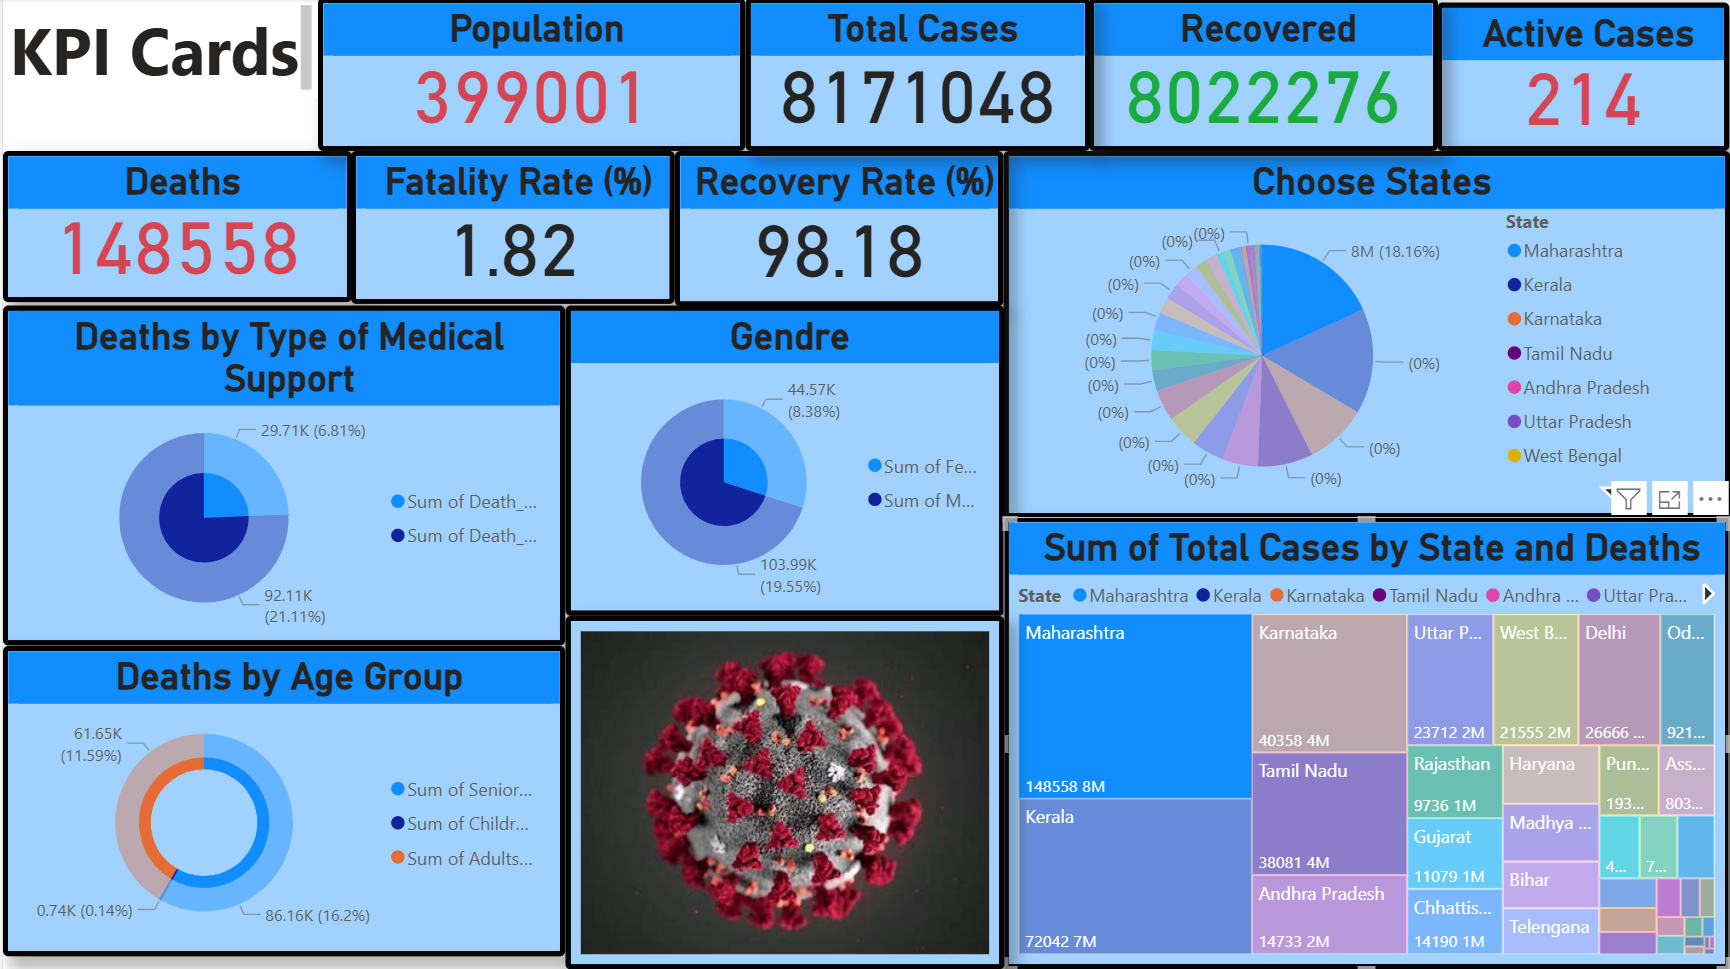

The dashboard page shown, as its layout file describes it:
{"tool":"powerbi","page":{"name":"Page 1","canvas":[1280,720],"ordinal":0},"visuals":[{"type":"actionButton","box":[0,0,100,40],"z":0},{"type":"kpi","title":"Deaths ","fields":{"Indicator":["Sum(Table.Deaths)"],"TrendLine":["Table.Total Cases"],"Goal":["Sum(Table.Population)"]},"box":[0,113.3,258.3,111.7],"z":1000},{"type":"kpi","title":"Active Cases","fields":{"Indicator":["Sum(Table.Active)"],"TrendLine":["Table.Total Cases"],"Goal":["Sum(Table.Population)"]},"box":[1063.3,3.3,216.7,110],"z":2000},{"type":"pieChart","title":"Choose States","fields":{"Category":["Table.State"],"Y":["Sum(Table.Total Cases)"],"Series":["Table.Active"]},"box":[741.7,113.3,538.3,271.7],"z":3000},{"type":"kpi","title":"Population ","fields":{"Indicator":["Sum(Table.Population)"],"TrendLine":["Table.State"],"Goal":["Sum(Table.Total Cases)"]},"box":[233.3,0,316.7,113.3],"z":4000},{"type":"kpi","title":"Recovered","fields":{"Indicator":["Sum(Table.Discharged)"],"TrendLine":["Table.Total Cases"],"Goal":["Sum(Table.Population)"]},"box":[805,0,258.3,113.3],"z":5000},{"type":"kpi","title":"Fatality Rate (%)","fields":{"Indicator":["Sum(Table.Death Ratio)"],"TrendLine":["Table.Deaths"]},"box":[258.3,113.3,240,113.3],"z":6000},{"type":"kpi","title":"Recovery Rate (%)","fields":{"Indicator":["Sum(Table.Discharge Ratio)"],"TrendLine":["Table.Total Cases"]},"box":[498.3,113.3,243.3,115],"z":7000},{"type":"textbox","box":[0,0,233.3,73.3],"z":8000},{"type":"kpi","title":"Total Cases","fields":{"Indicator":["Sum(Table.Total Cases)"],"TrendLine":["Table.Population"]},"box":[550,0,255,113.3],"z":9000},{"type":"pieChart","title":"Deaths by Type of Medical Support","fields":{"Y":["Sum(Table.Death_On_Oxygen)","Sum(Table.Death_On_ventilator)"]},"box":[0,228.3,416.7,251.7],"z":10000},{"type":"donutChart","title":"Deaths by Age Group","fields":{"Y":["Sum(Table.Senior_citizens_death)","Sum(Table.Children_Deaths)","Sum(Table.Adults_Deaths)"]},"box":[0,480,416.7,230],"z":11000},{"type":"pieChart","title":"Gendre","fields":{"Y":["Sum(Table.Female_Death)","Sum(Table.Male_death)"]},"box":[416.7,228.3,325,230],"z":12000},{"type":"treemap","fields":{"Group":["Table.State"],"Details":["Table.Deaths"],"Values":["Sum(Table.Total Cases)"]},"box":[741.7,385,538.3,335],"z":13000},{"type":"image","box":[416.7,458.3,325,261.7],"z":14000}]}

Visuals, with their boxes in screenshot pixels (x1, y1, x2, y2), scaled from the page's 1280x720 canvas onto the 1730x969 screenshot:
actionButton: l=0, t=0, r=135, b=54
"Deaths " kpi: l=0, t=152, r=349, b=303
"Active Cases" kpi: l=1437, t=4, r=1729, b=152
"Choose States" pieChart: l=1002, t=152, r=1729, b=518
"Population " kpi: l=315, t=0, r=743, b=152
"Recovered" kpi: l=1088, t=0, r=1437, b=152
"Fatality Rate (%)" kpi: l=349, t=152, r=673, b=305
"Recovery Rate (%)" kpi: l=673, t=152, r=1002, b=307
textbox: l=0, t=0, r=315, b=99
"Total Cases" kpi: l=743, t=0, r=1088, b=152
"Deaths by Type of Medical Support" pieChart: l=0, t=307, r=563, b=646
"Deaths by Age Group" donutChart: l=0, t=646, r=563, b=956
"Gendre" pieChart: l=563, t=307, r=1002, b=617
treemap - Table.State x Table.Deaths: l=1002, t=518, r=1729, b=968
image: l=563, t=617, r=1002, b=968
